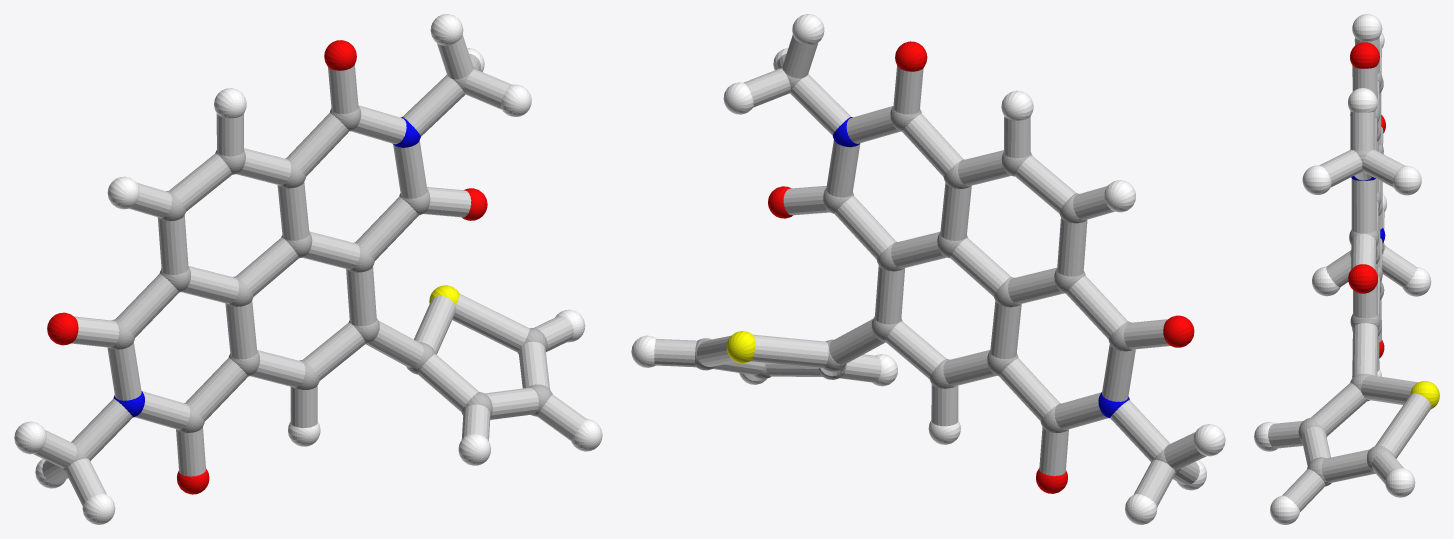
Rendered from Dimethyl_Naphthalene_Dicarboximide_Phi_20_Theta_120_Thiophene.glb.
The picture shows the model from 3 angles, left to right: view 1: azimuth 30°, elevation 25°; view 2: azimuth 150°, elevation 25°; view 3: azimuth 270°, elevation 25°; orthographic projection. The views are drawn at different scales.
Visible parts, largest first — view 1: grp14119, grp7241, grp1, grp12309, grp11585; view 2: grp14119, grp7241, grp1, grp12309, grp13757, grp11585; view 3: grp14119, grp7241, grp1, grp12309, grp13757.
Boxes of the visible parts, box(x1,y1,x2,y2) form: grp14119: box(33, 35, 586, 506); grp7241: box(14, 14, 602, 524); grp1: box(60, 66, 552, 472); grp12309: box(47, 40, 487, 494); grp11585: box(113, 117, 420, 417); grp14119: box(654, 35, 1206, 507); grp7241: box(631, 14, 1225, 524); grp1: box(695, 66, 1180, 473); grp12309: box(768, 41, 1194, 493); grp13757: box(726, 331, 755, 363); grp11585: box(833, 117, 1129, 418); grp14119: box(1268, 37, 1431, 511); grp7241: box(1254, 14, 1431, 524); grp1: box(1298, 71, 1394, 486); grp12309: box(1348, 42, 1385, 358); grp13757: box(1410, 381, 1439, 409).
Size of the model in its own units: 12.31 by 8.64 by 3.72.
